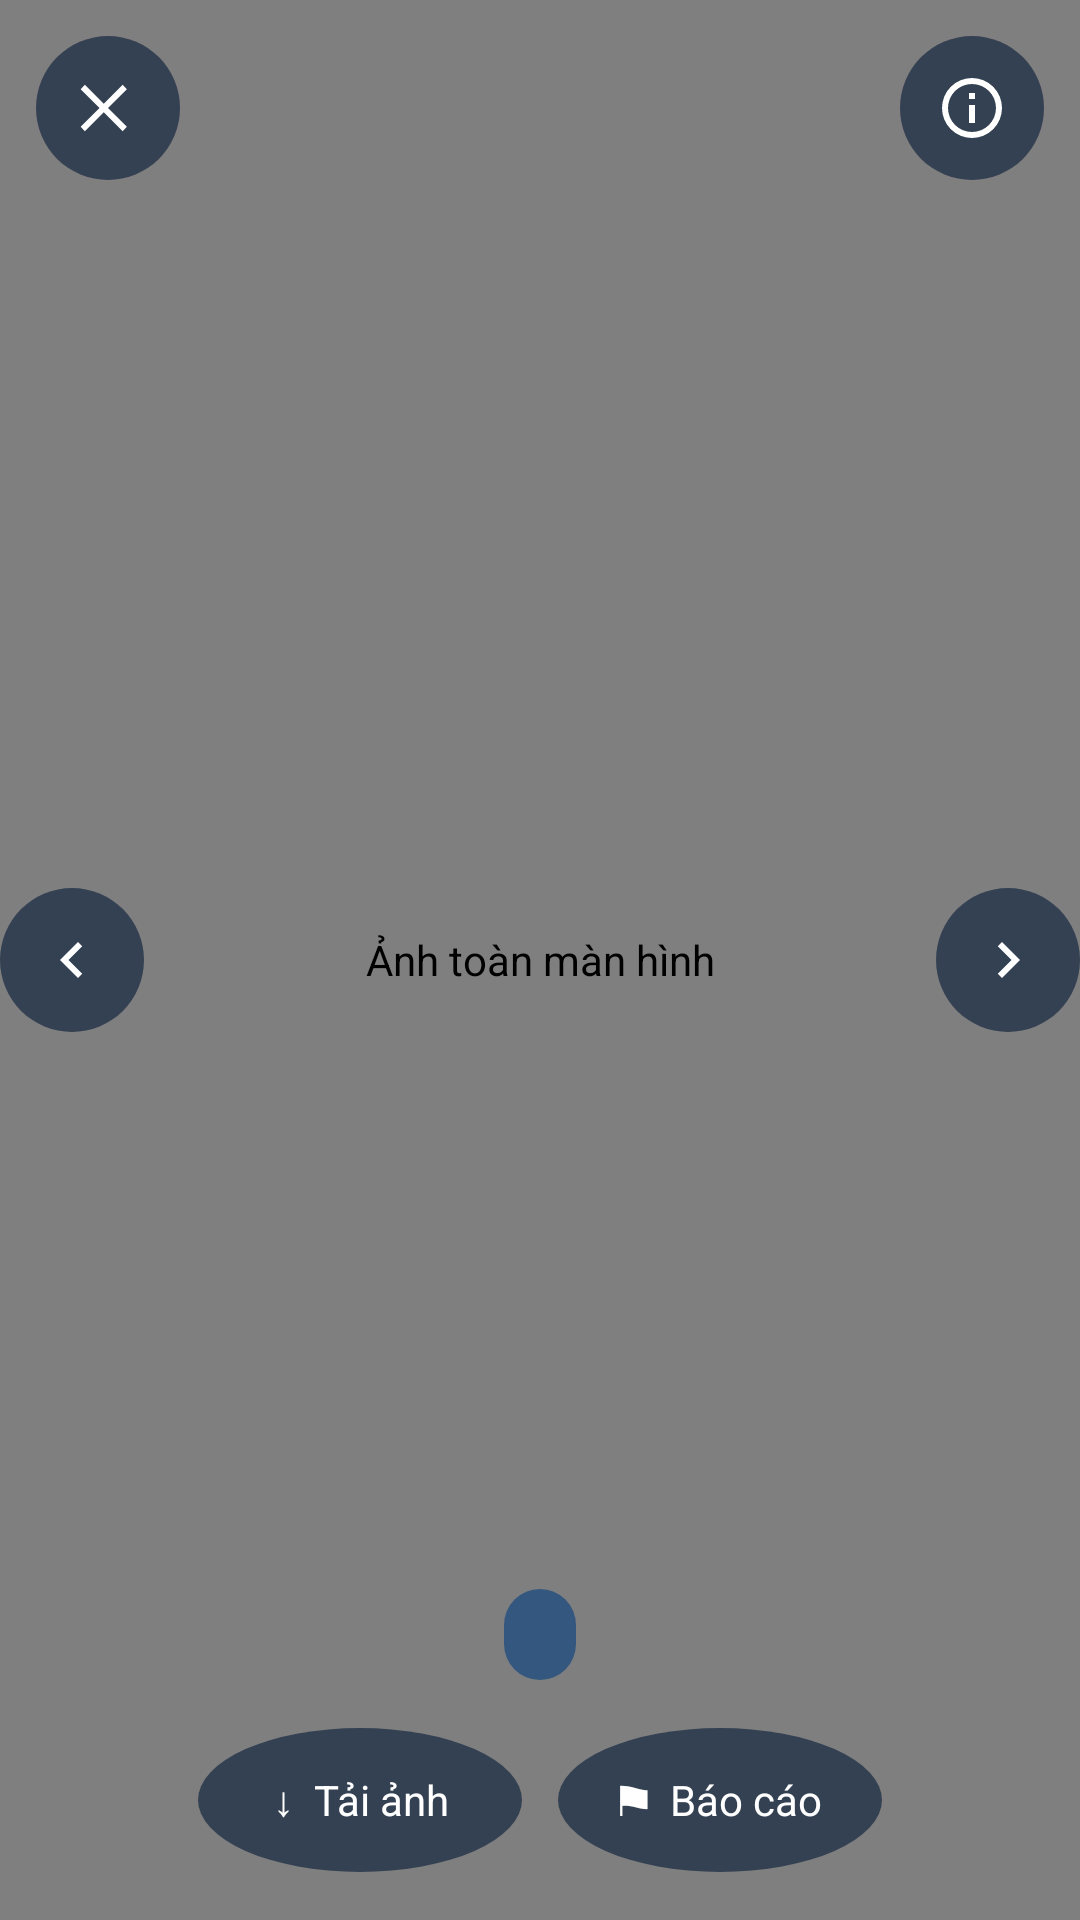

Named icons in this screenshot (1080*1920) and their bounding boxes, (x1, y1, x2, y2):
Xem thông số ảnh: (900, 36, 1044, 180)
Đóng xem ảnh: (36, 36, 180, 180)
Ảnh tiếp theo: (936, 888, 1080, 1032)
Ảnh trước: (0, 888, 144, 1032)
